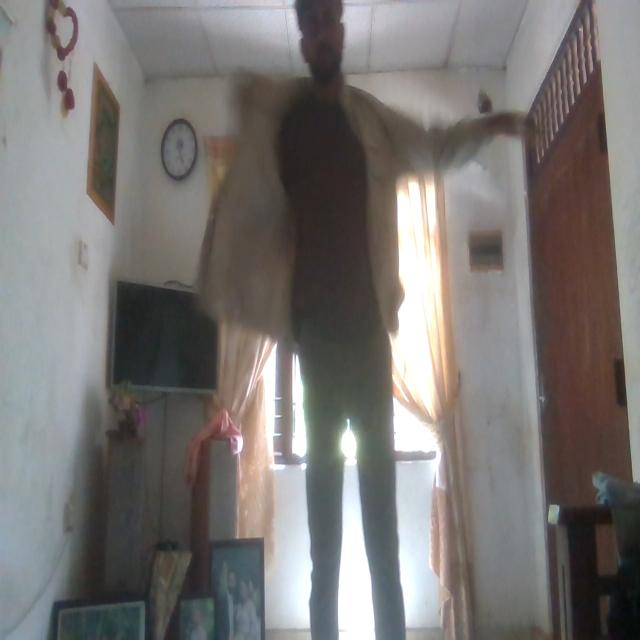Jacket_Wearer: (223, 62, 475, 340)
Person: (262, 2, 419, 639)
